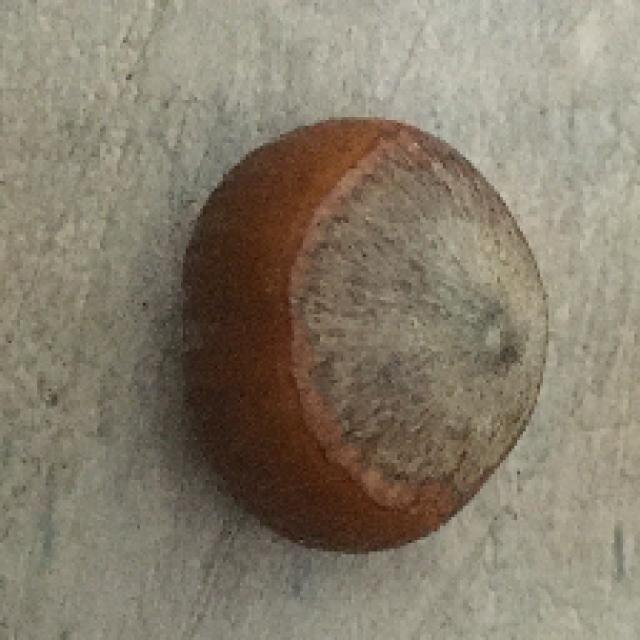qualityHazelnut: (167, 95, 553, 562)
